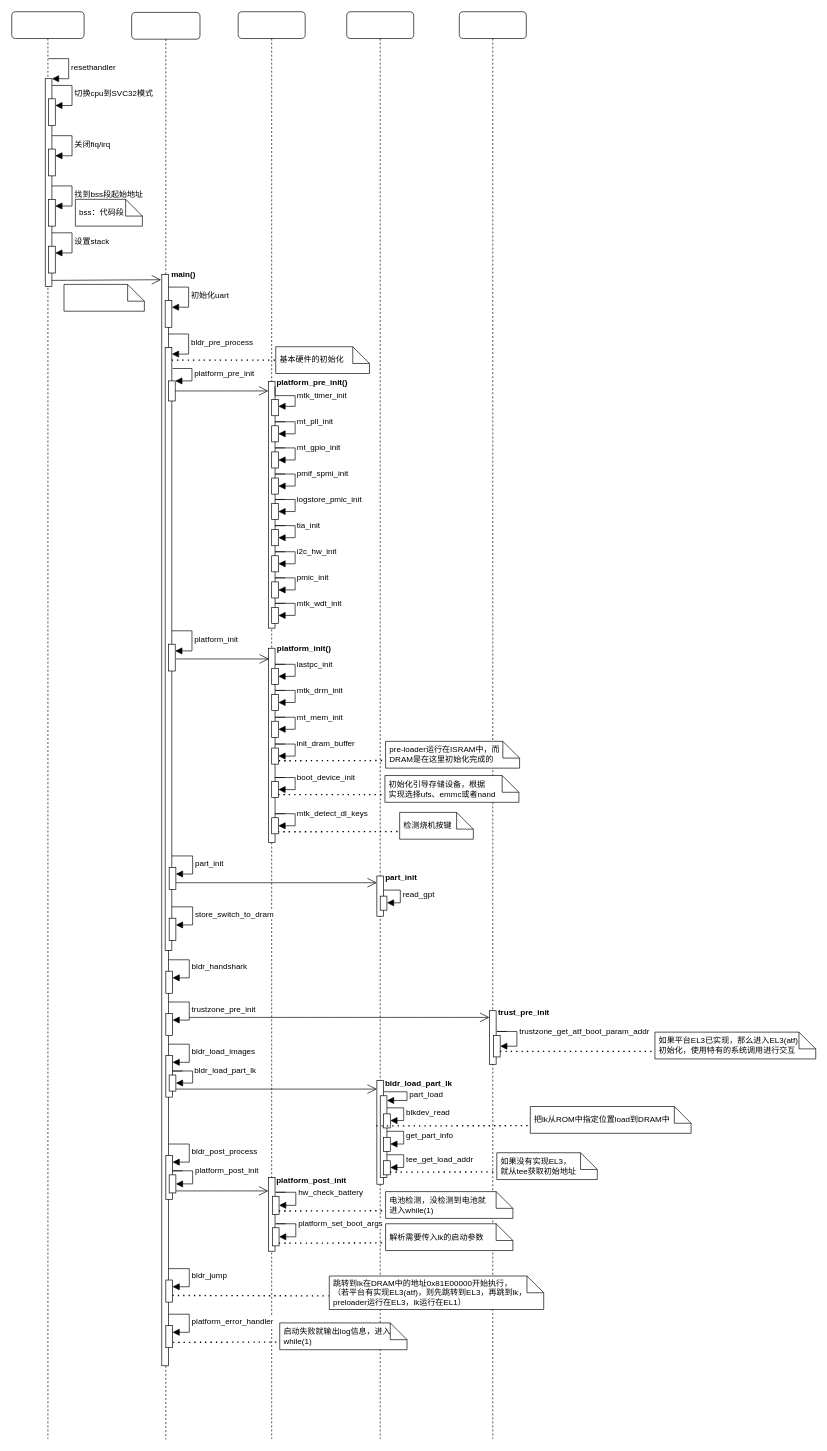
Some shapes in this 827 by 1451 pixel diagram are drawn without their labels. Here are the shapes that lost their labels. From the top down, the box of each, then its label:
(63, 284, 144, 311): 跳转到C代码 的 main 入口
(11, 11, 84, 1439): init.S
(131, 12, 200, 1439): core/main.c
(238, 11, 305, 1439): platform.c
(346, 11, 414, 1439): partition.c
(459, 11, 526, 1439): tz_init.c
